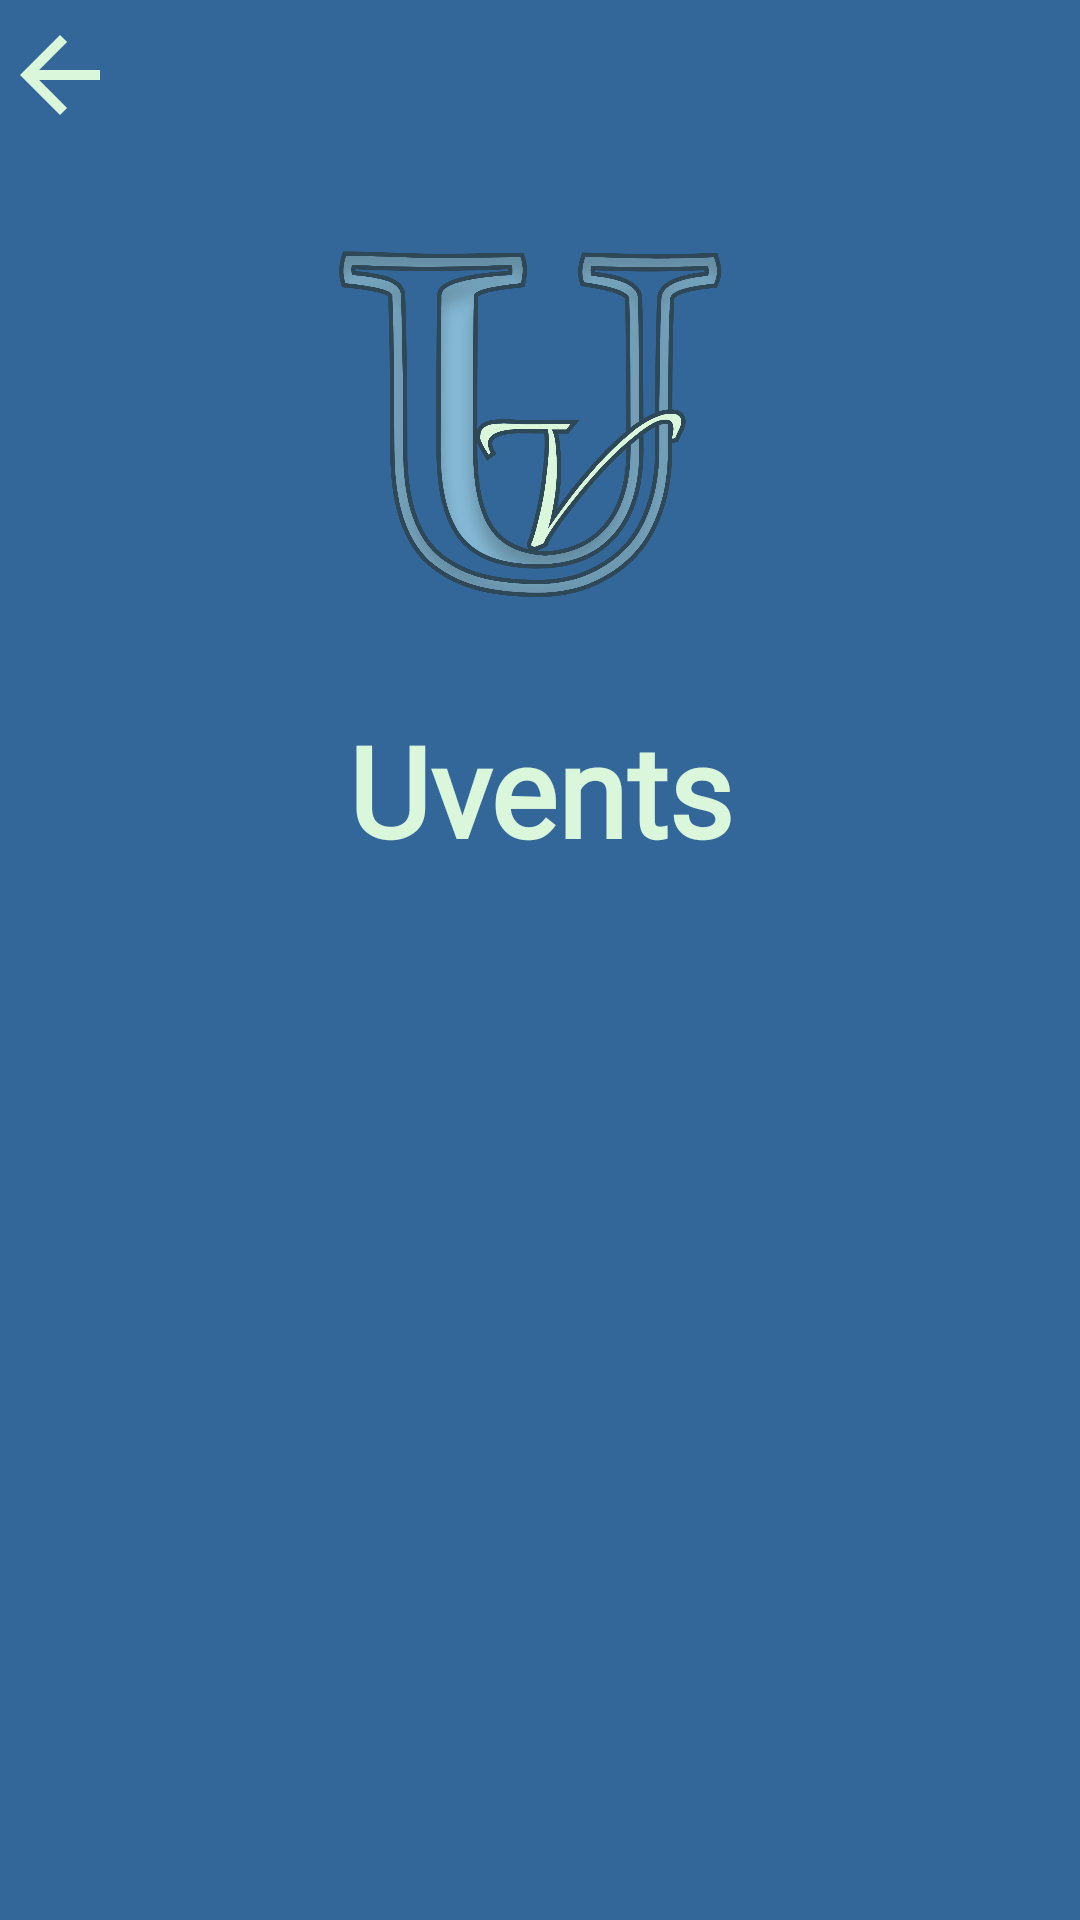

Icons on this 1080×1920 Android screen, each with the point to tap as (x=x, y=y):
arrow back: (x=60, y=75)
